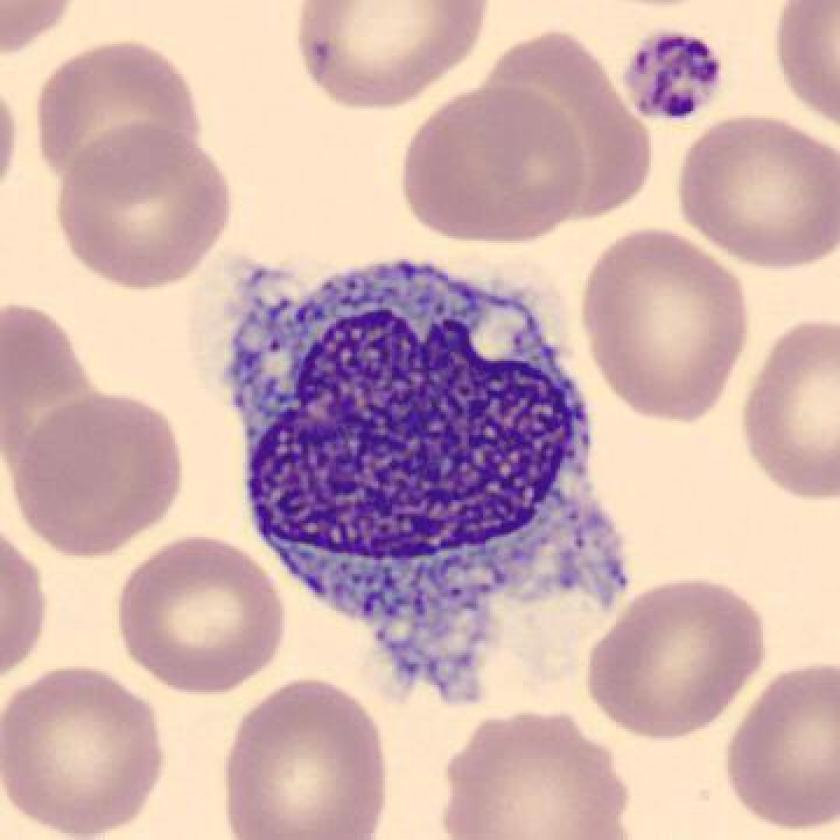monocyte: (197, 216, 654, 723)
